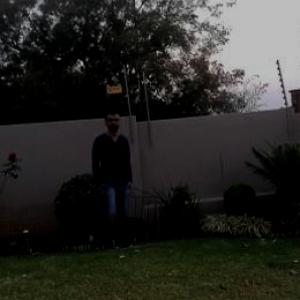follow: (83, 105, 137, 255)
